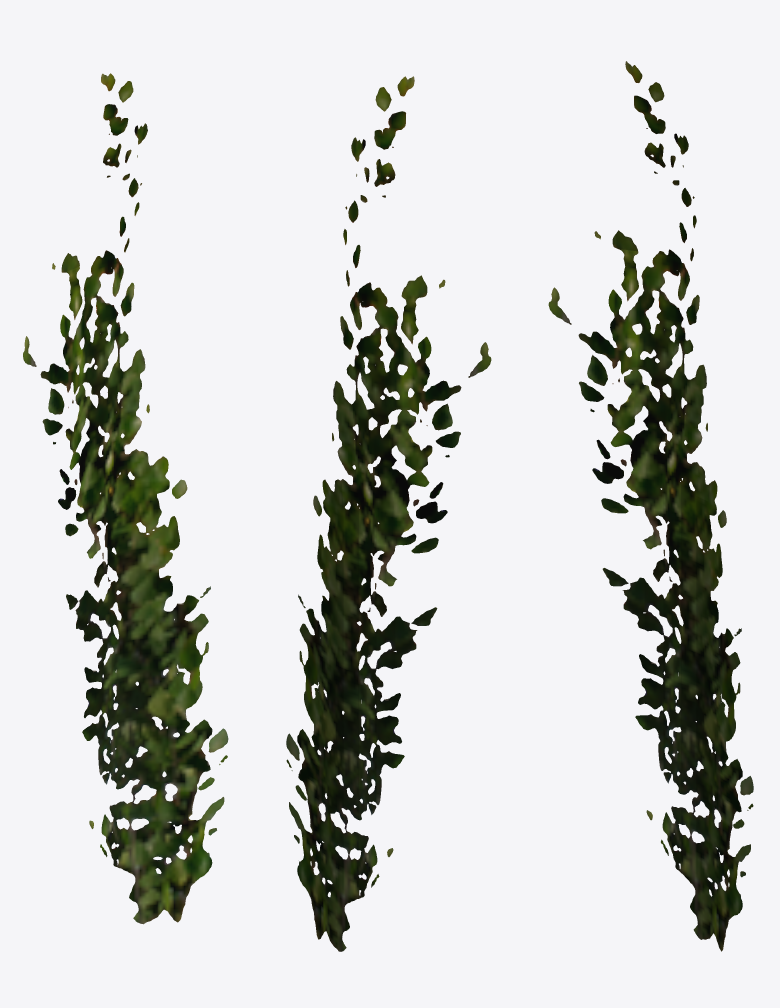
Rendered from ivywall_d.glb.
3 views of the same model, side by side, from view 1: azimuth 30°, elevation 25°; view 2: azimuth 150°, elevation 25°; view 3: azimuth 330°, elevation 25° (orthographic).
Visible parts, largest first — view 1: IvyWall_D; view 2: IvyWall_D; view 3: IvyWall_D.
Part boxes in pixels (x1,y1,x2,y2): IvyWall_D: (23, 73, 228, 924); IvyWall_D: (286, 76, 491, 951); IvyWall_D: (548, 61, 753, 951).
Bounding box in the file's own units: 0.3677 × 1.4 × 0.0644.
1 material, 1 textured.
